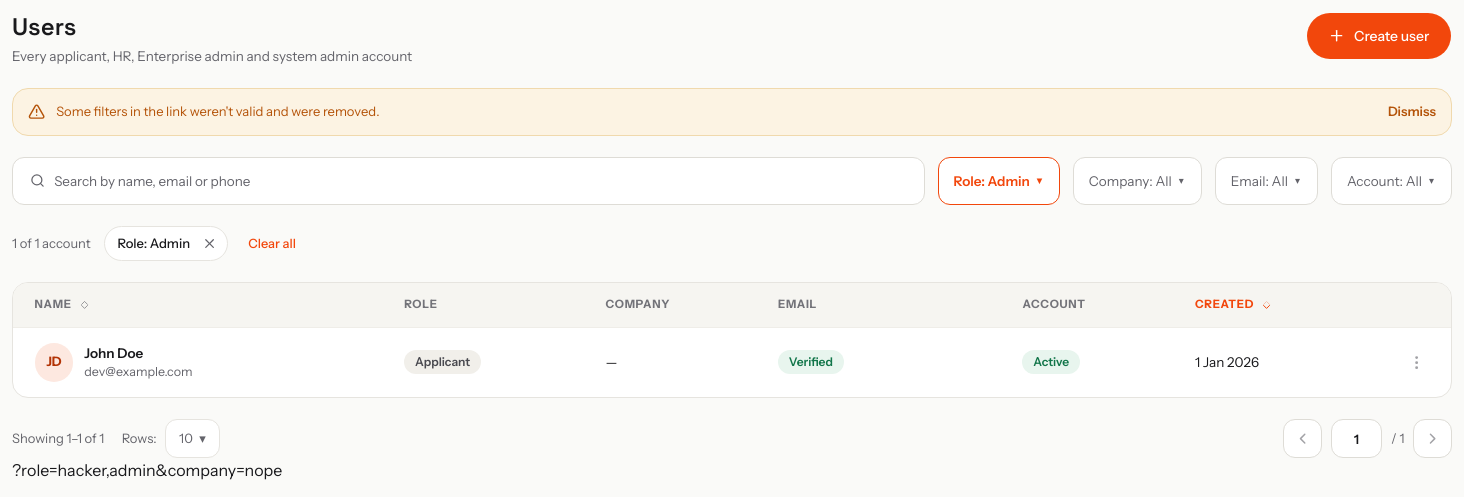
UsersPage › drops invalid filters from the link and says so
expect the text "Some filters in the link weren't valid and were removed." is shown: met, box [56,103,380,119]
Click the button "Dismiss". click: [1412, 112]
box: [1388,102,1436,122]
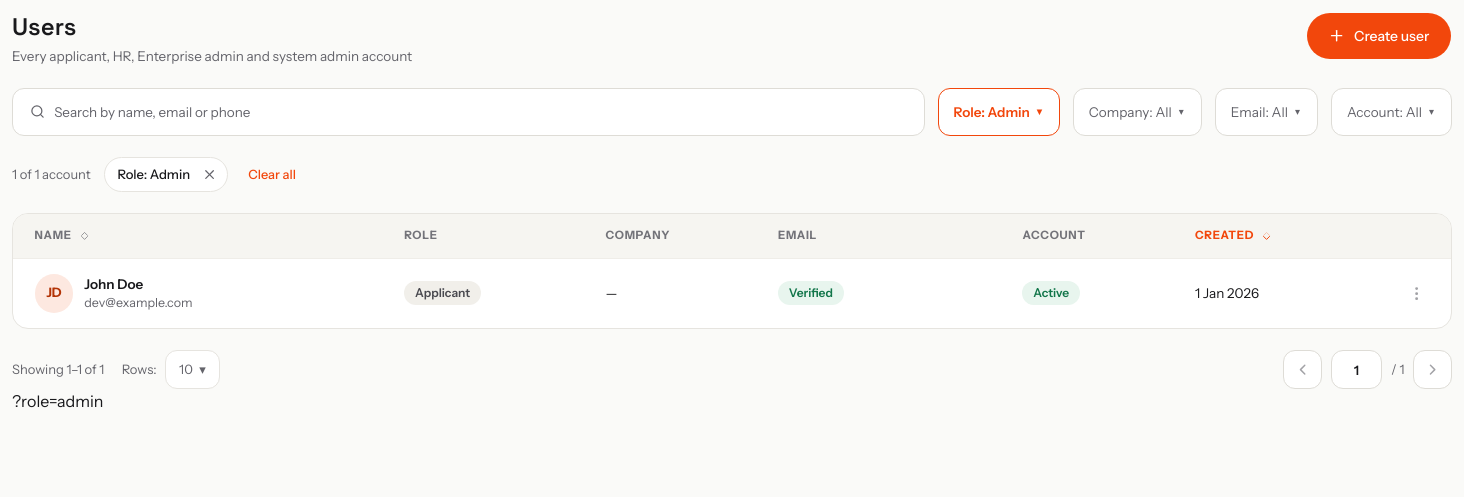
expect the text with test id "location" does not show "company": met, box [12,391,103,411]
expect the text "weren't valid" is gone: met
expect the text with test id "location" shows "role=admin": met, box [12,391,103,411]
